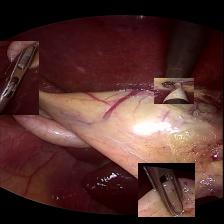Grasper: (138, 162, 195, 216), (0, 40, 39, 114)
Hook: (154, 77, 194, 103)
